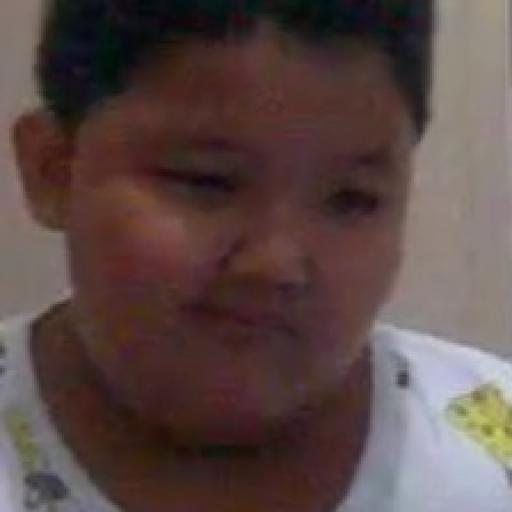Autism: (23, 0, 446, 464)
